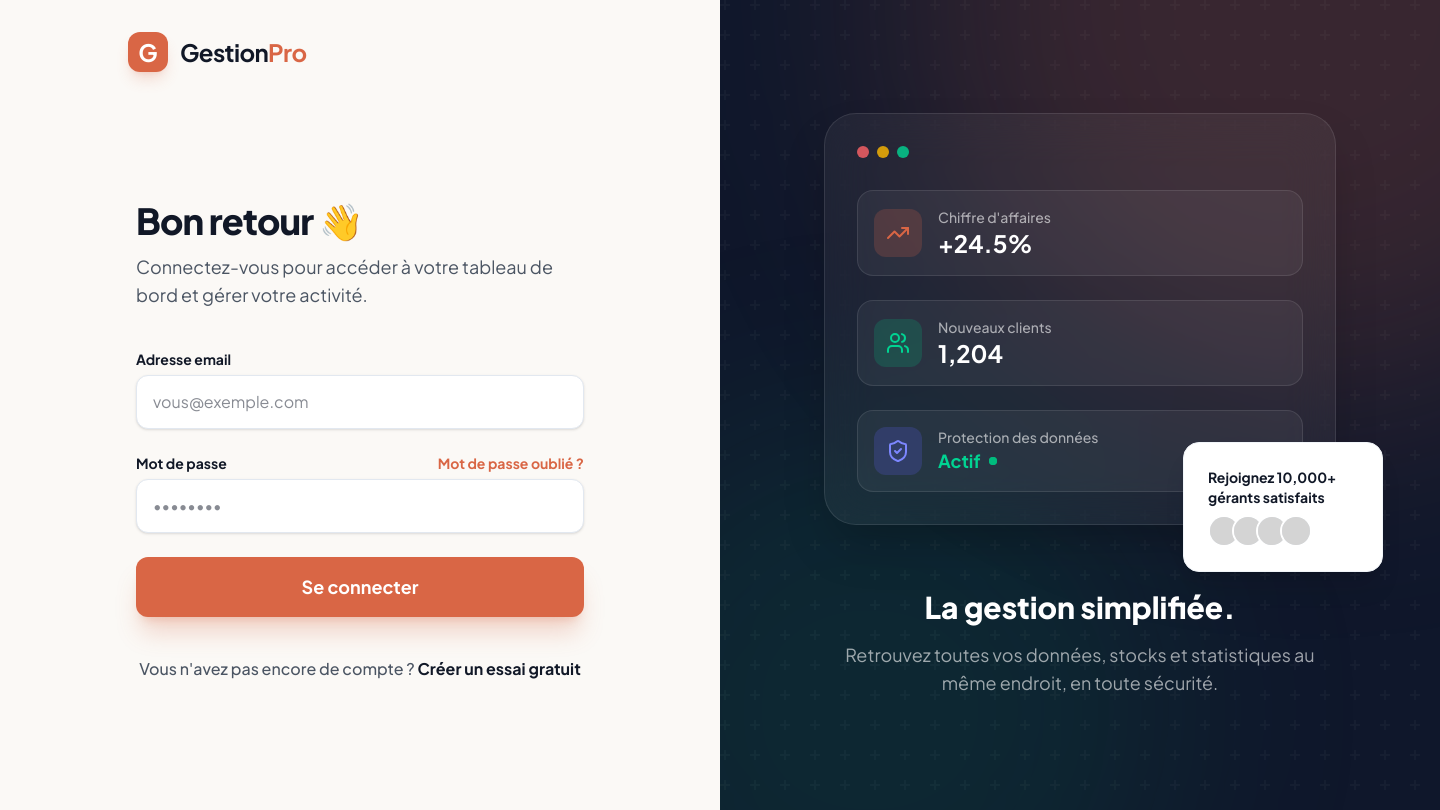
Scenario: Login › shows a lockout message and disables the button when the server reports the account is locked
In the field with placeholder "vous@exemple.com": (360, 402) 136,375 -> 584,429, type "owner@test.com"
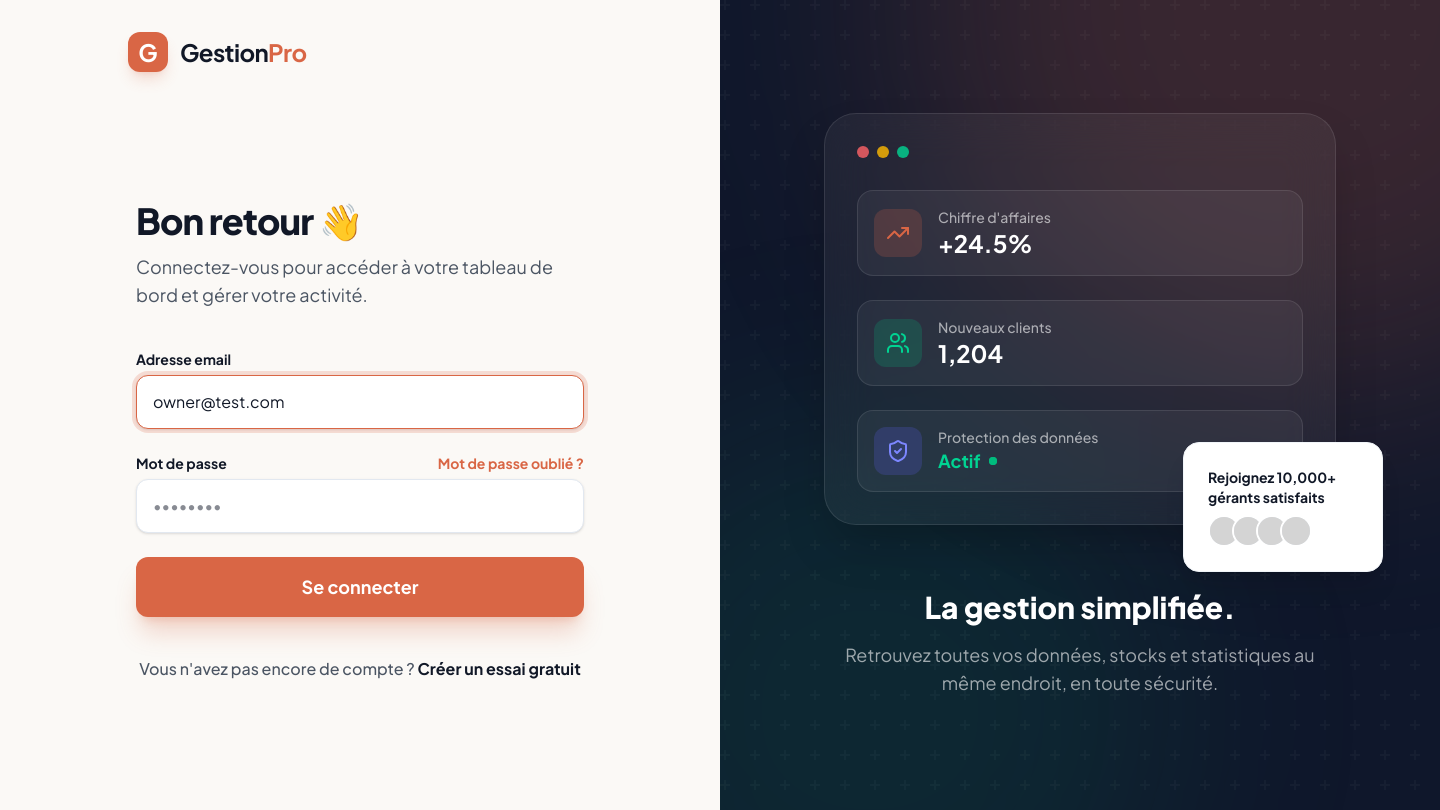
In the password field with placeholder "••••••••": (360, 506) 136,479 -> 584,533, type "password123"
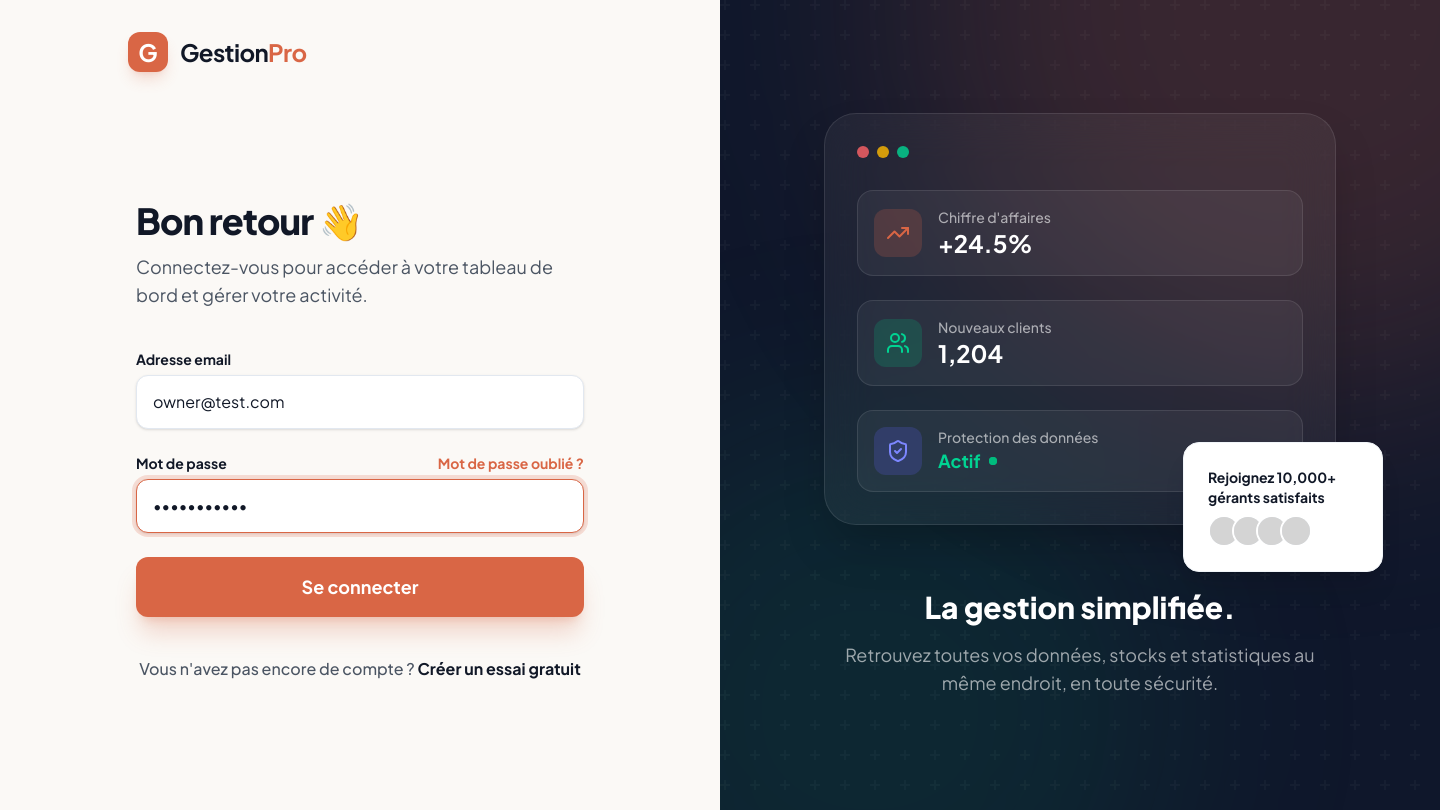
Click the button "Se connecter": (360, 587) 136,557 -> 584,617
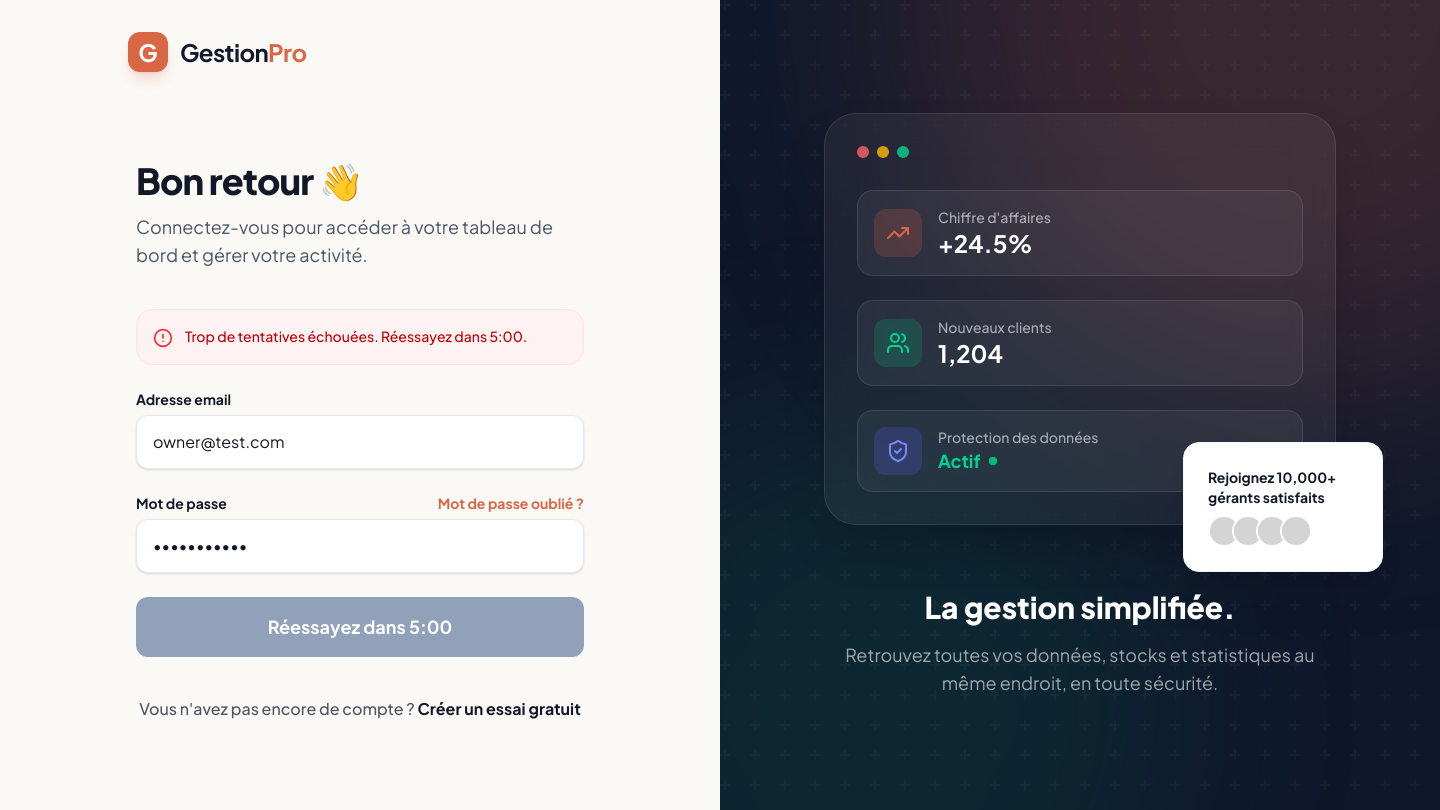
expect the text "Trop de tentatives échouées. Réessayez dans 5:00." is shown: met, box 185,326 -> 527,346
expect the button "Réessayez dans 5:00" is disabled: met, box 136,597 -> 584,657
